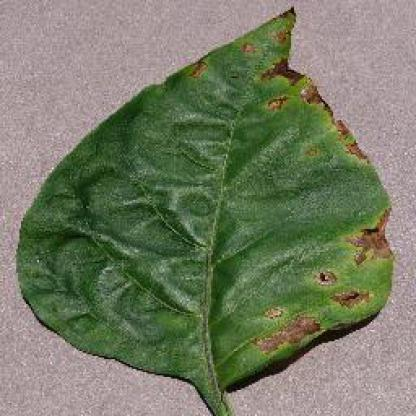bad leaf: (18, 7, 410, 394)
